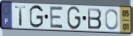B: (87, 7, 103, 30)
E: (49, 6, 65, 30)
G: (66, 6, 82, 31), (29, 4, 44, 29)
O: (104, 8, 119, 31)
T: (15, 6, 28, 28)
